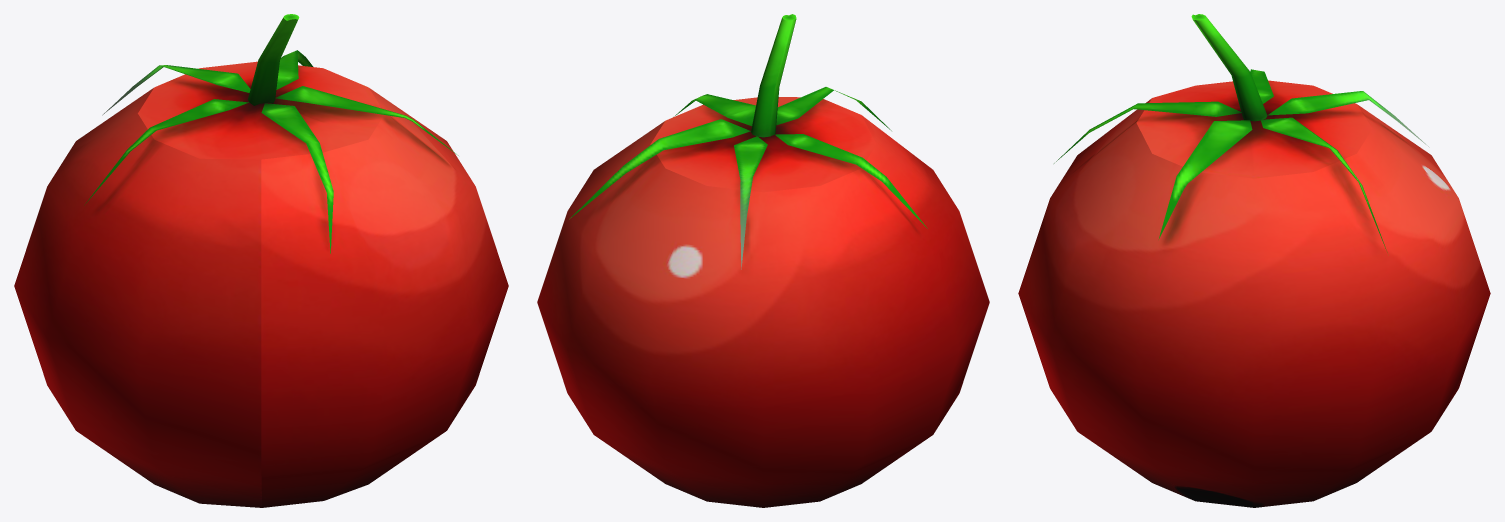
The model's file is Tomato.fbx.
The picture shows the model from 3 angles, left to right: view 1: azimuth 30°, elevation 25°; view 2: azimuth 150°, elevation 25°; view 3: azimuth 270°, elevation 25°; orthographic projection. The views are drawn at different scales.
Parts seen in each view (by area): view 1: Tomato; view 2: Tomato; view 3: Tomato.
Part boxes in pixels (box(x1,y1,x2,y2)): Tomato: box(14, 14, 508, 507); Tomato: box(537, 14, 989, 507); Tomato: box(1018, 14, 1490, 507).
Size of the model in its own units: 126 by 130 by 126.
